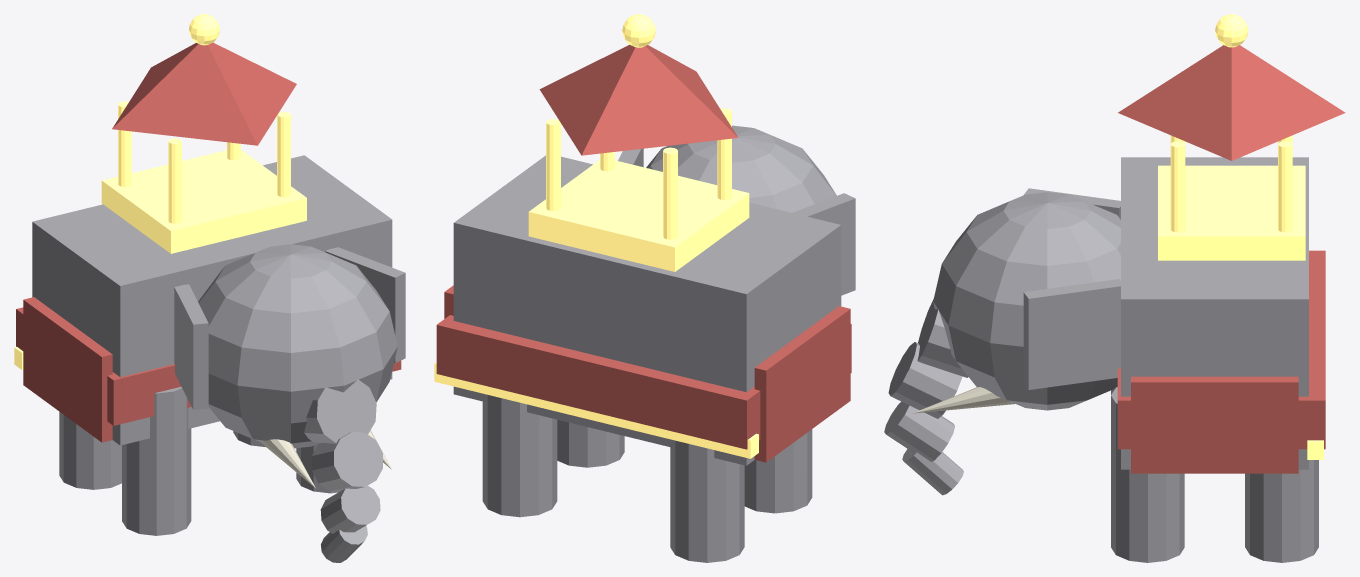
File: elephant_hi.glb
3 views of the same model, side by side, from view 1: azimuth 30°, elevation 25°; view 2: azimuth 150°, elevation 25°; view 3: azimuth 270°, elevation 25° (orthographic). The views are drawn at different scales.
Visible parts, largest first — view 1: Elephant, Caparison, Howdah, Tusks; view 2: Elephant, Caparison, Howdah; view 3: Elephant, Caparison, Howdah, Tusks.
Part boxes in pixels (<box>): Elephant: <box>32,155,405,562</box>; Caparison: <box>16,42,401,442</box>; Howdah: <box>14,14,306,369</box>; Tusks: <box>260,430,391,488</box>; Elephant: <box>453,125,855,562</box>; Caparison: <box>436,44,851,462</box>; Howdah: <box>434,14,758,458</box>; Elephant: <box>884,157,1318,562</box>; Caparison: <box>1117,45,1345,473</box>; Howdah: <box>1158,14,1323,459</box>; Tusks: <box>912,387,1014,413</box>.
Bounding box in the file's own units: 1.1 × 1.6 × 1.38.
